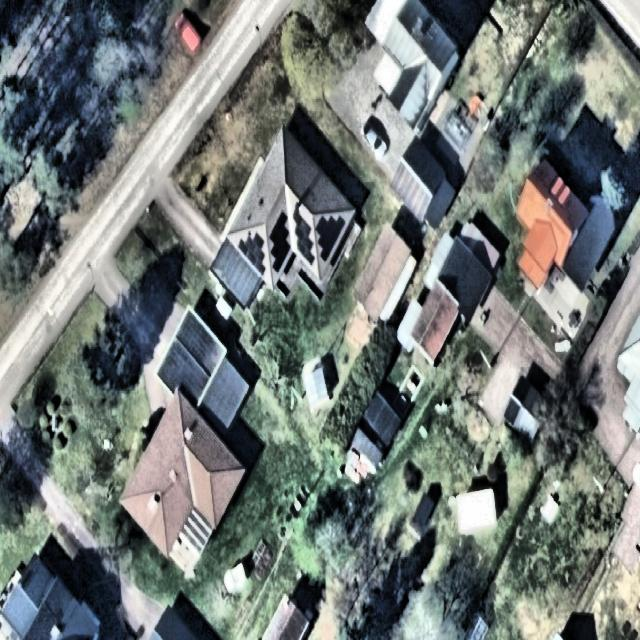roof_pv: (235, 228, 268, 275), (292, 204, 315, 269), (269, 208, 291, 270), (317, 214, 345, 262)
